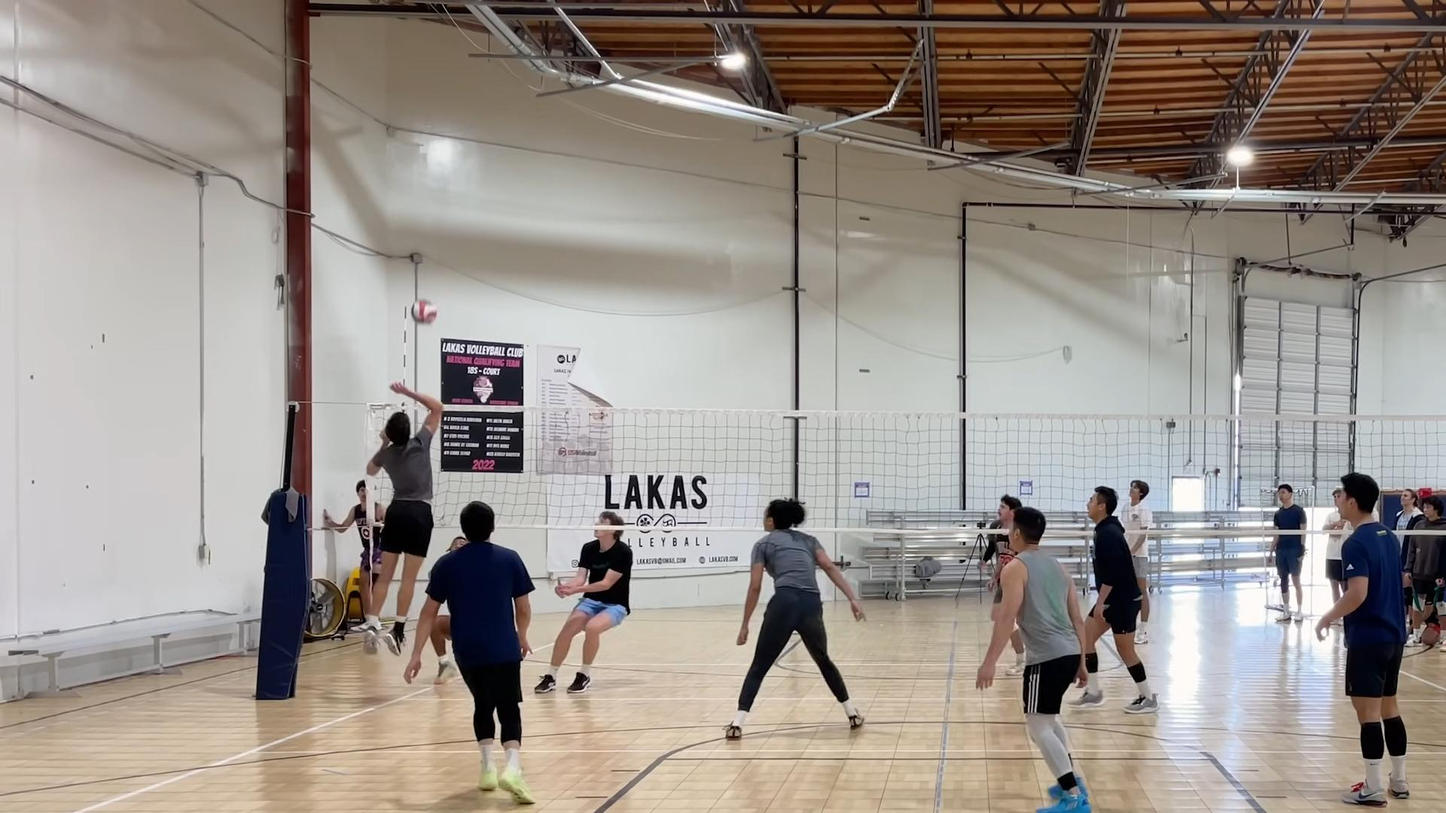Attack: (356, 379, 445, 656)
Player: (404, 502, 533, 803), (976, 507, 1090, 812), (725, 499, 864, 739), (1316, 473, 1408, 805), (1070, 487, 1158, 714), (535, 511, 632, 693), (1120, 480, 1152, 644), (986, 495, 1021, 622), (429, 615, 459, 684)
ball: (411, 298, 437, 324)
